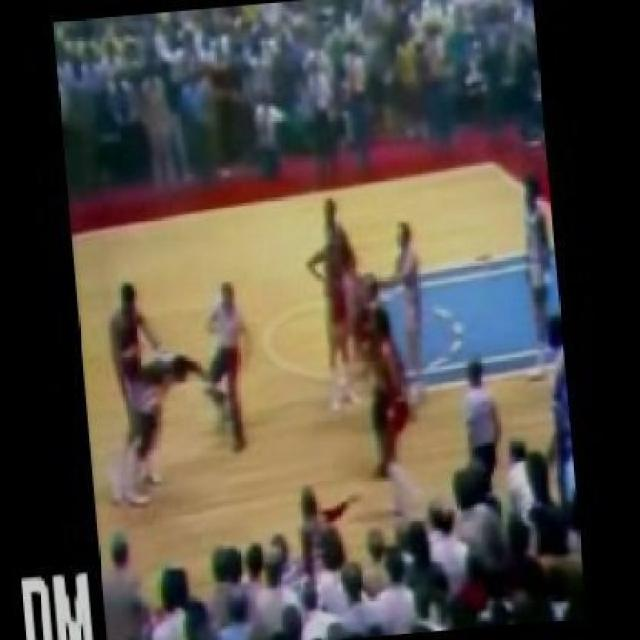non-fight: (99, 279, 161, 497), (192, 280, 262, 454), (368, 217, 437, 383), (516, 173, 562, 344), (369, 299, 408, 482)
